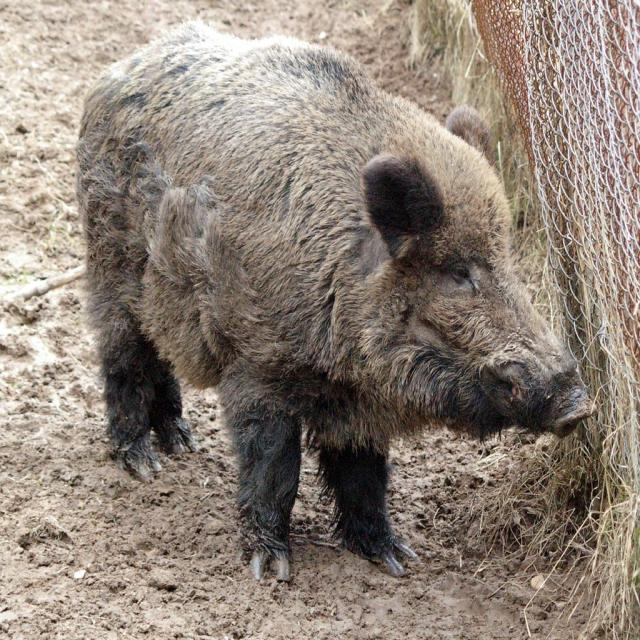Pig: (71, 19, 598, 586)
